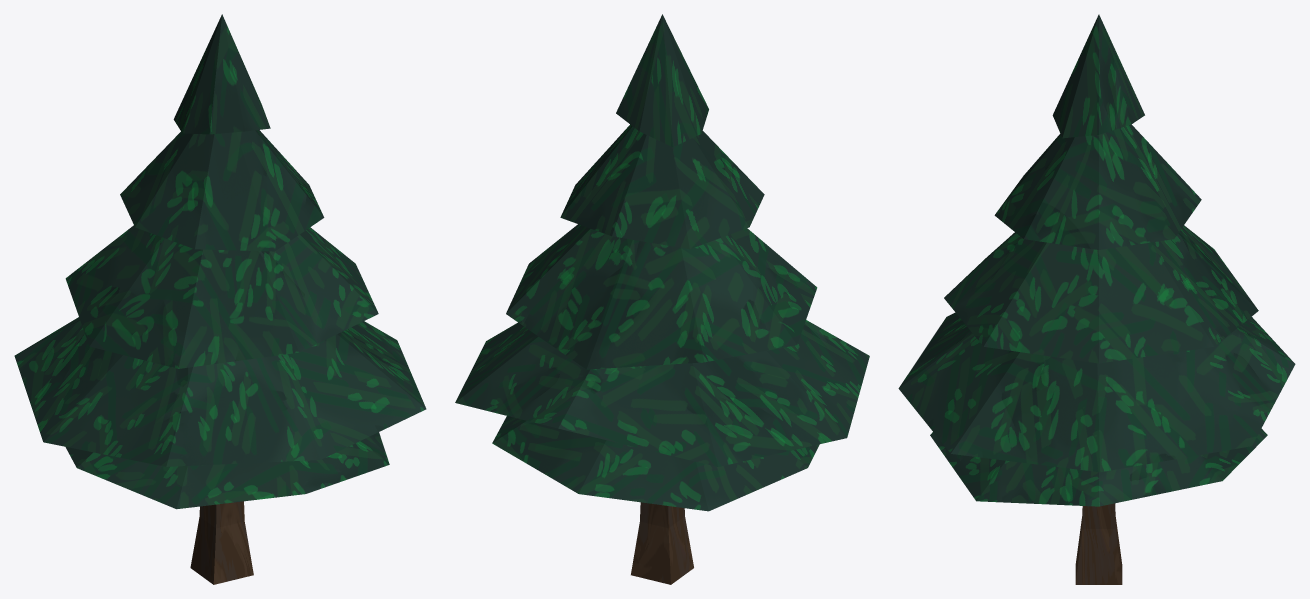
The model's file is C_Tree_small_lower_poly.fbx.
3 views of the same model, side by side, from view 1: azimuth 30°, elevation 25°; view 2: azimuth 150°, elevation 25°; view 3: azimuth 270°, elevation 25° (orthographic).
Visible parts, largest first — view 1: Cube; view 2: Cube; view 3: Cube.
Part boxes in pixels (bbox=[...]): Cube: bbox=[14, 14, 426, 584]; Cube: bbox=[455, 14, 869, 584]; Cube: bbox=[898, 14, 1295, 584].
Size of the model in its own units: 5.27 by 7.85 by 5.04.
